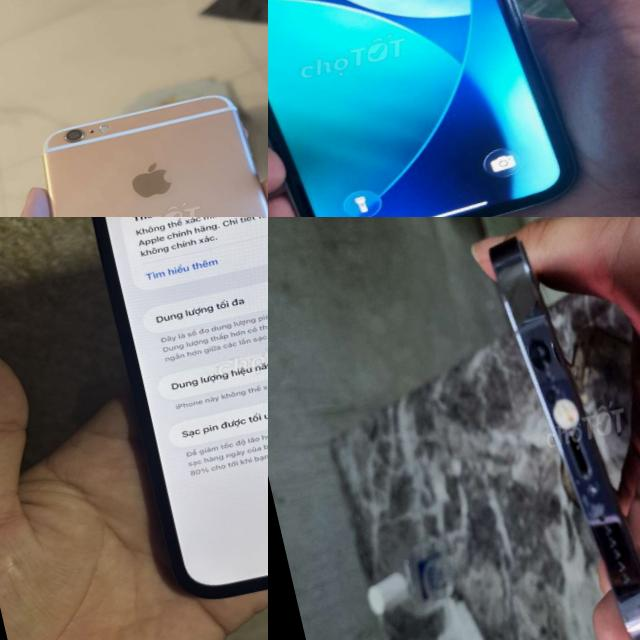gen_11: (268, 0, 587, 217)
gen_12_13: (61, 217, 268, 627), (476, 217, 640, 640)
gen_6: (0, 60, 268, 217)
